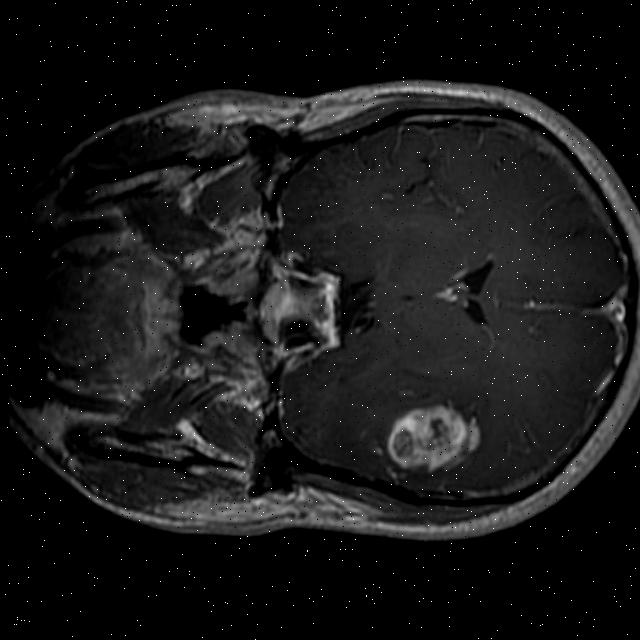Glioma: (381, 394, 486, 481)
Pituitary: (251, 275, 320, 350)
